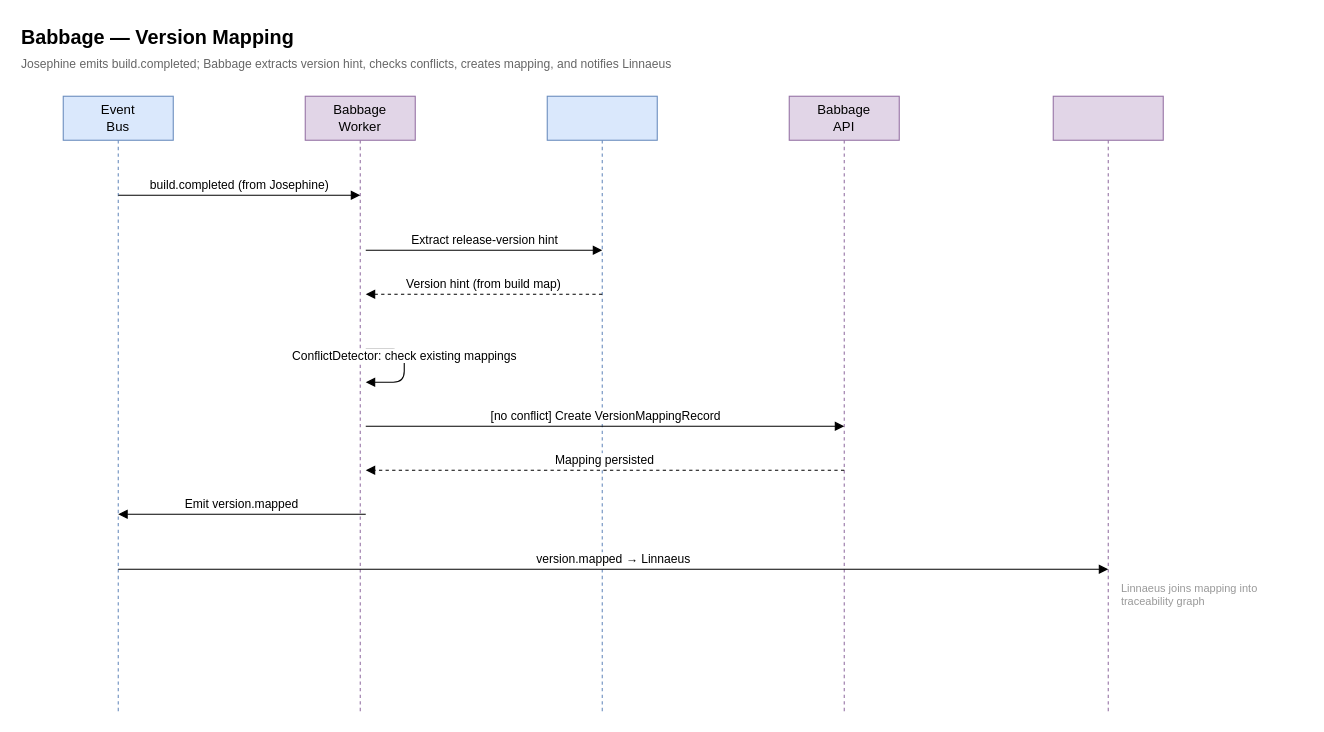
The diagram is 1324 pixels wide and 732 high, and some of its shapes have lost their labels. Here are the shapes that lost their labels. From the top down, the box of each, then its label:
(546, 95, 657, 712): Fuze Core
(1052, 95, 1163, 712): Linnaeus
